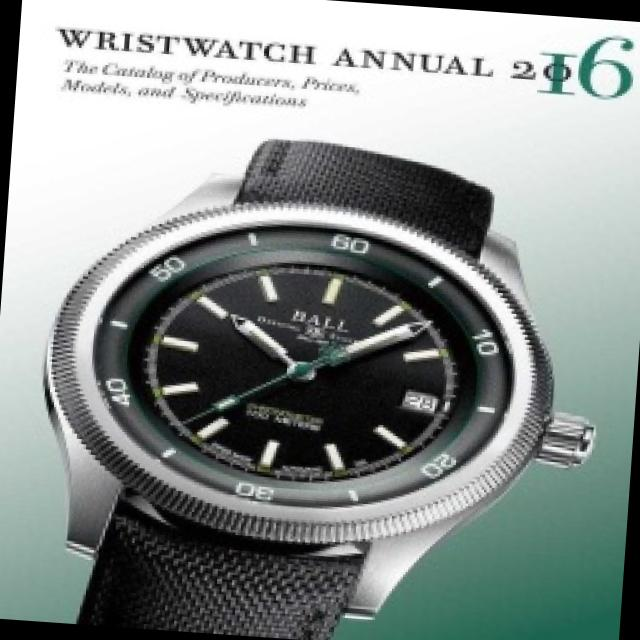saat: (18, 113, 625, 640)
